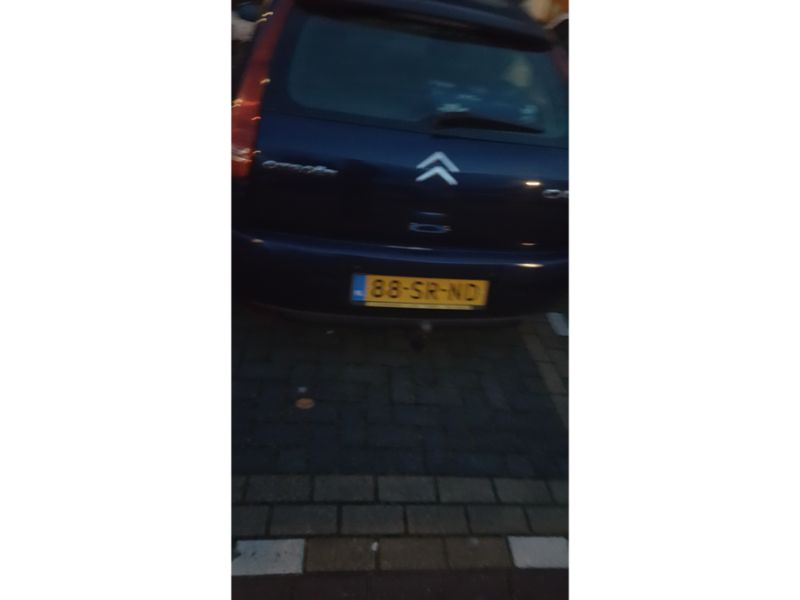kenteken: (351, 273, 496, 313)
